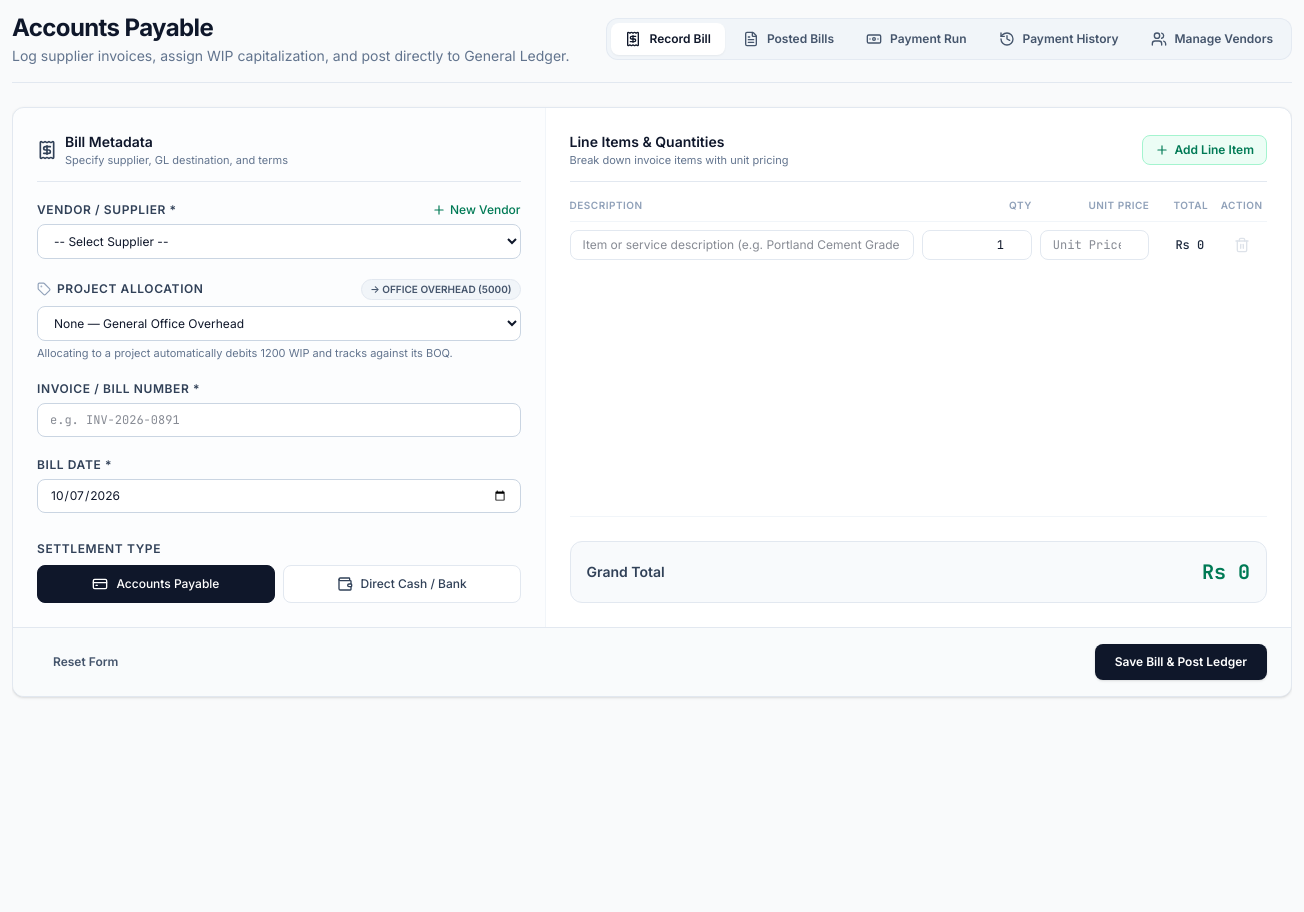
Test: Accounts Payable Page (Screens 5 & 7) › Payment Run Panel (Screen 7) › allows editing allocation amount for a selected bill and recalculates total payment
The width and height of the screenshot is (1304, 912).
Click the button "Payment Run". click: click(916, 39)
box: [852, 23, 980, 55]
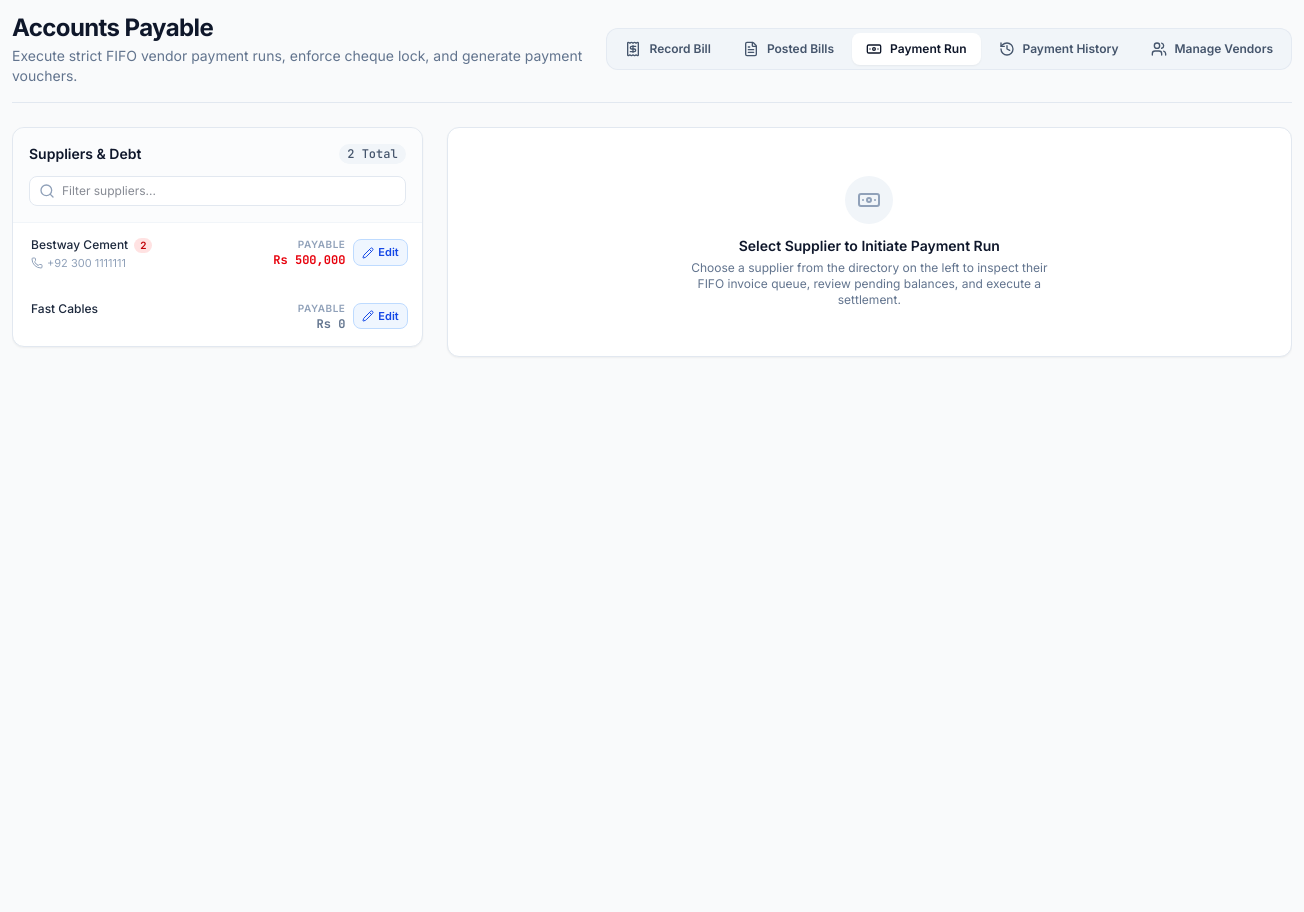
Click the text "Bestway Cement". click: click(80, 245)
box: [31, 237, 128, 253]
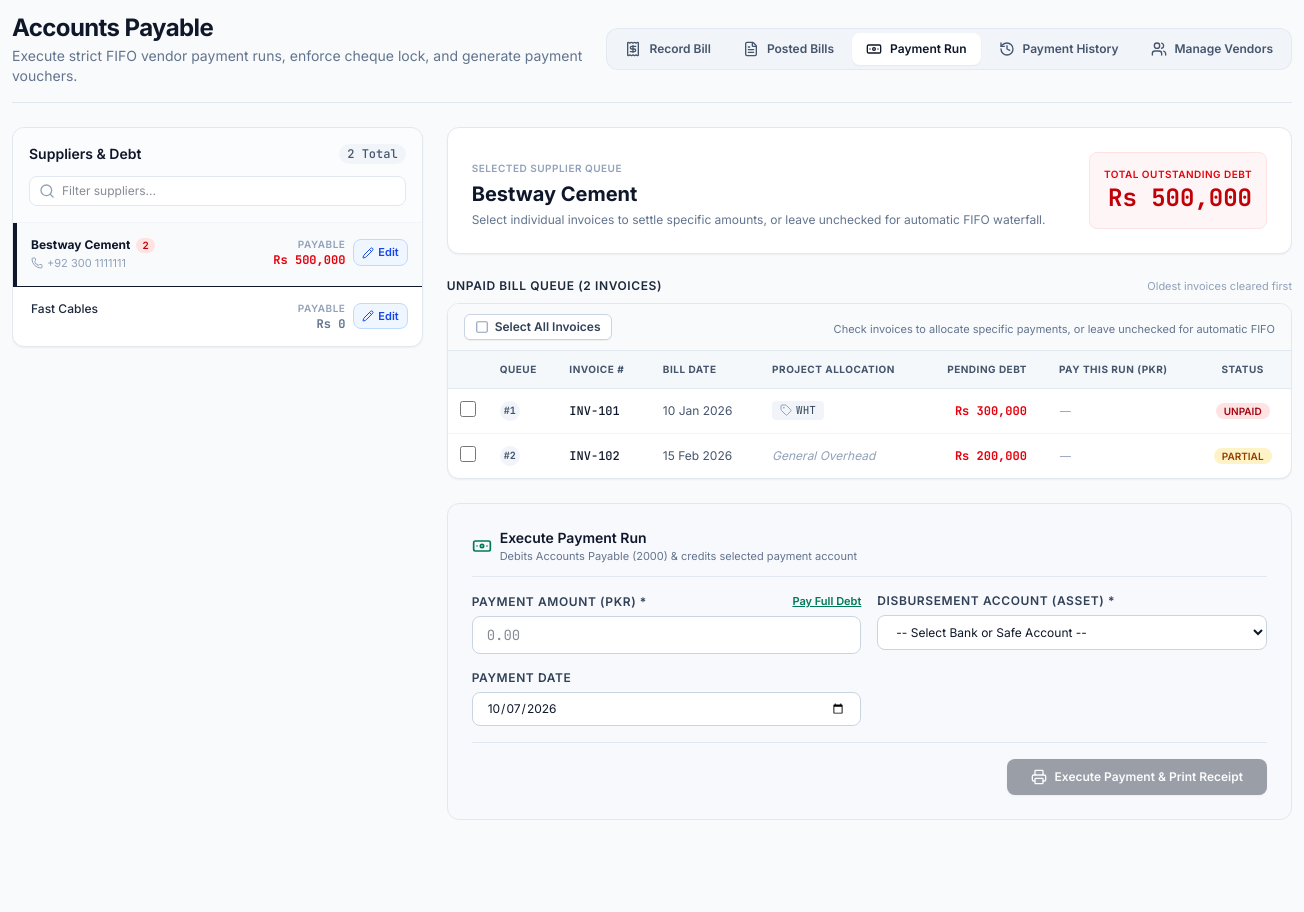
Click the checkbox with test id "select-bill-bill-2". click: click(468, 454)
box: [460, 446, 476, 462]
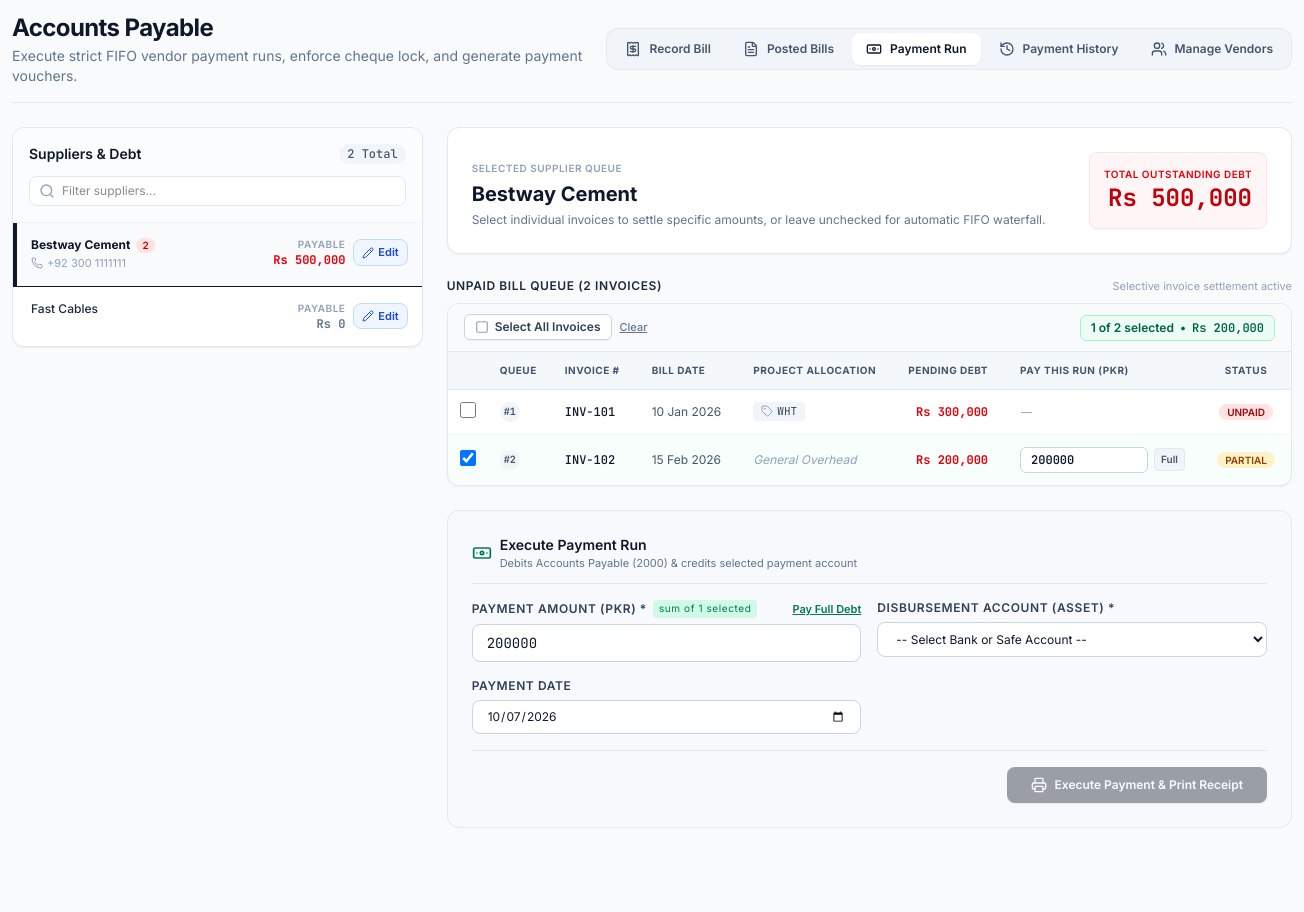
Replace the text in the number field with test id "allocation-input-bill-2" with "75000". click: (1084, 460)
box: [1020, 447, 1148, 473]
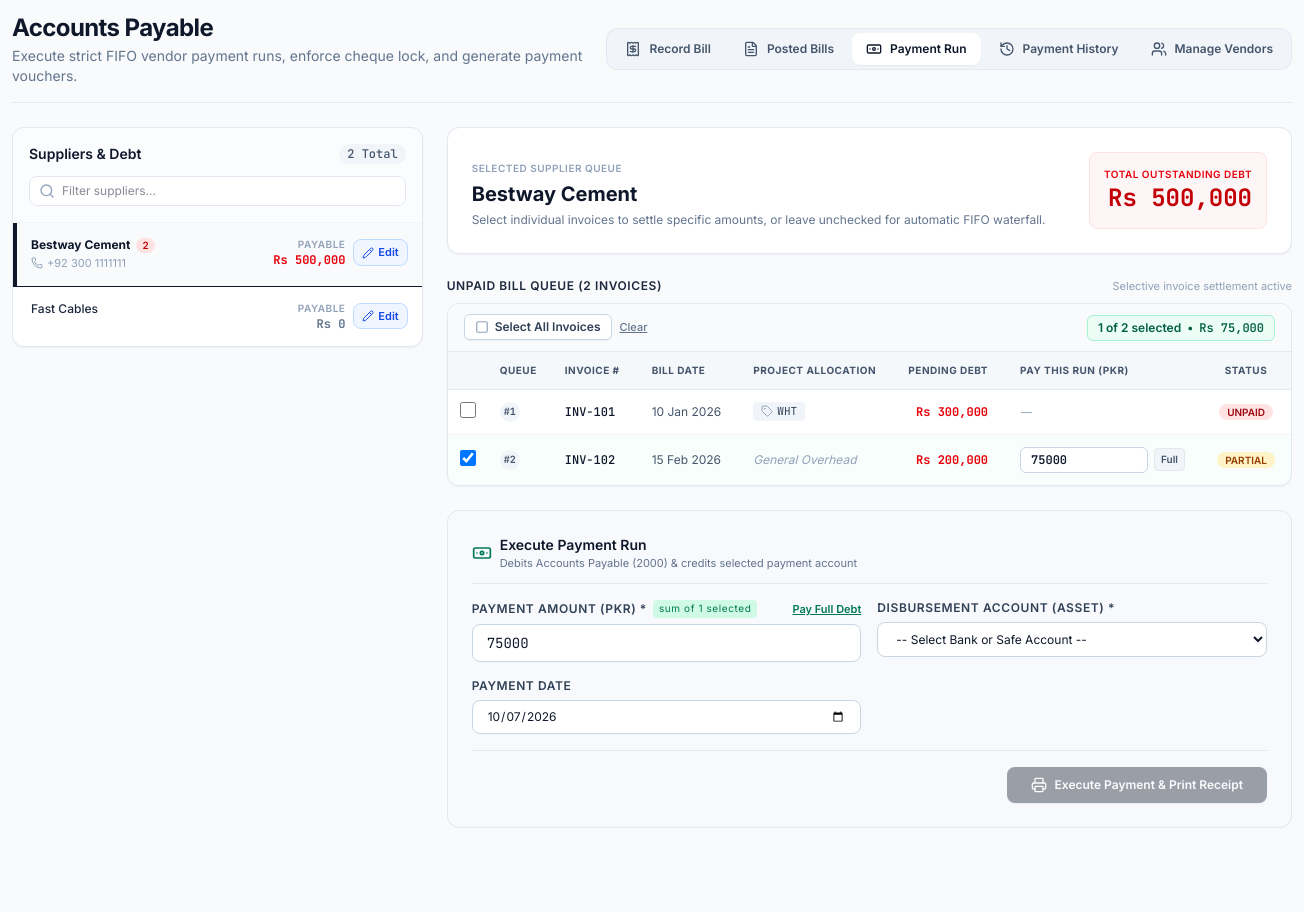
Expected: the element with test id "selected-invoices-summary" shows "75,000", [1199, 320, 1264, 336]
